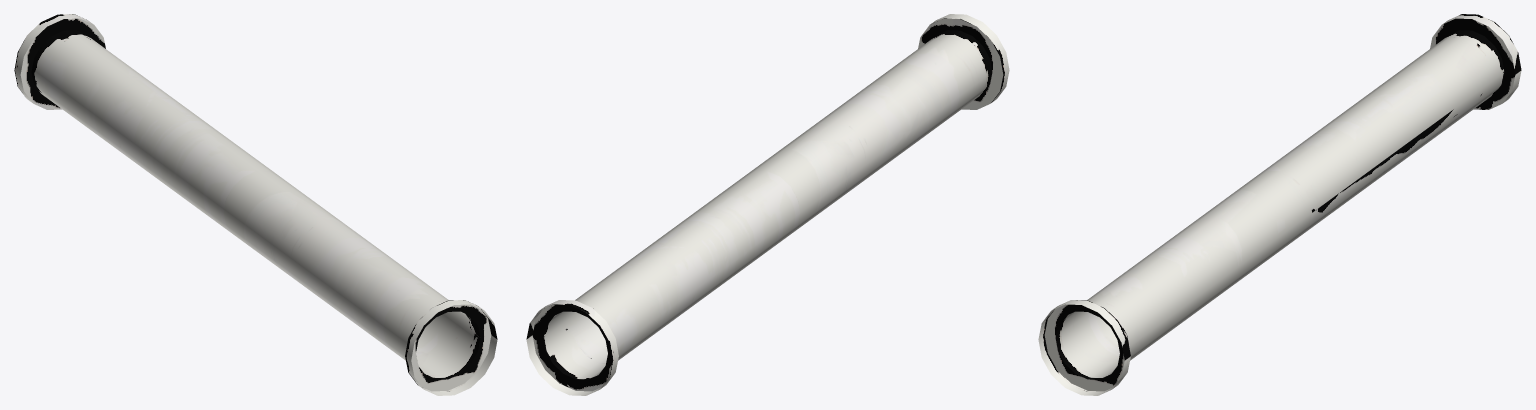
File: props_mining_industrial_pipe01_256_01.glb
The picture shows the model from 3 angles, left to right: view 1: azimuth 30°, elevation 25°; view 2: azimuth 150°, elevation 25°; view 3: azimuth 330°, elevation 25°; orthographic projection.
Visible parts, largest first — view 1: models/props_mining/industrial_pipe01_256_01; view 2: models/props_mining/industrial_pipe01_256_01; view 3: models/props_mining/industrial_pipe01_256_01.
Boxes of the visible parts, x1=… form: models/props_mining/industrial_pipe01_256_01: x1=14, y1=14, x2=497, y2=395; models/props_mining/industrial_pipe01_256_01: x1=526, y1=14, x2=1009, y2=395; models/props_mining/industrial_pipe01_256_01: x1=1038, y1=14, x2=1521, y2=395.
Size of the model in its own units: 32.16 by 32.16 by 256.
1 material, 1 textured.
